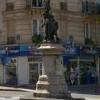Statue: (26, 1, 77, 53)
